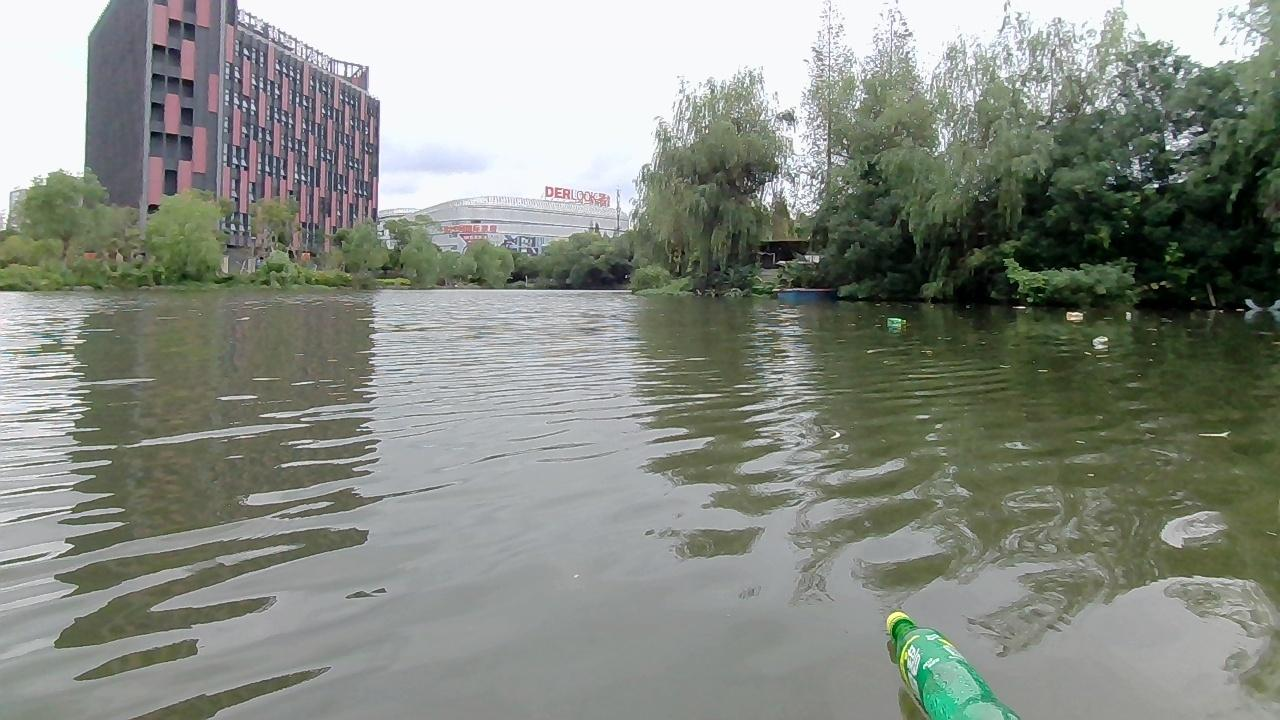bottle: (880, 604, 1025, 719), (1063, 308, 1085, 322), (1090, 333, 1110, 348), (885, 316, 905, 325)
